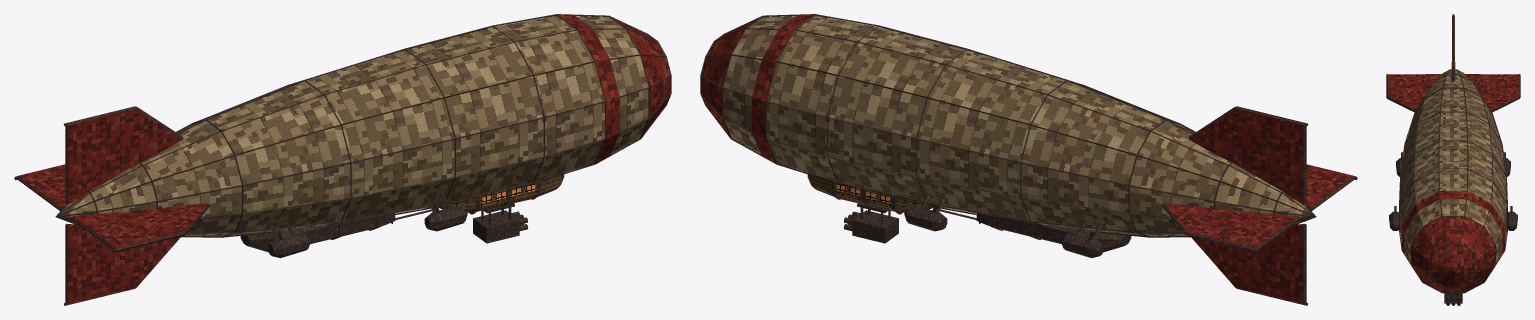
The model's file is SM_Nemesis_Airship.fbx.
3 views of the same model, side by side, from view 1: azimuth 30°, elevation 25°; view 2: azimuth 150°, elevation 25°; view 3: azimuth 270°, elevation 25° (orthographic). The views are drawn at different scales.
Parts seen in each view (by area): view 1: SM_Nemesis_Airship; view 2: SM_Nemesis_Airship; view 3: SM_Nemesis_Airship.
Part boxes in pixels (bbox=[...]): SM_Nemesis_Airship: bbox=[14, 14, 671, 305]; SM_Nemesis_Airship: bbox=[700, 14, 1357, 305]; SM_Nemesis_Airship: bbox=[1386, 14, 1520, 305].
Size of the model in its own units: 4860 by 1639 by 1382.
Materials: 6 (5 with a texture image).
